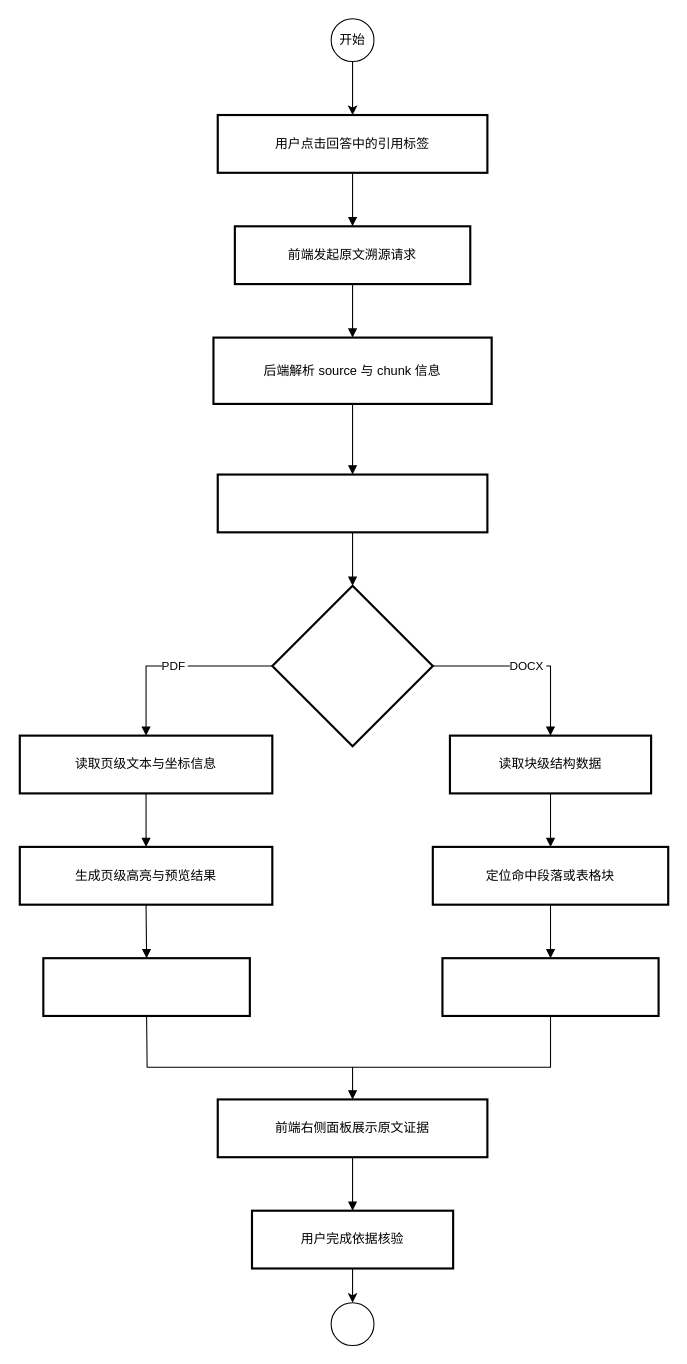
Image size: 687x1364. Some labels were removed from this diagram. The shapes that lost their labels are listed below. From the top down, each one's centre as x and y in pixels, then its label:
At [352,503]: "定位对应文档与切片元数据".
At [352,665]: "文档类型判断".
At [146,987]: "返回 PDF 溯源结果".
At [550,987]: "返回 Word 溯源结果".
At [352,1324]: "结束".
